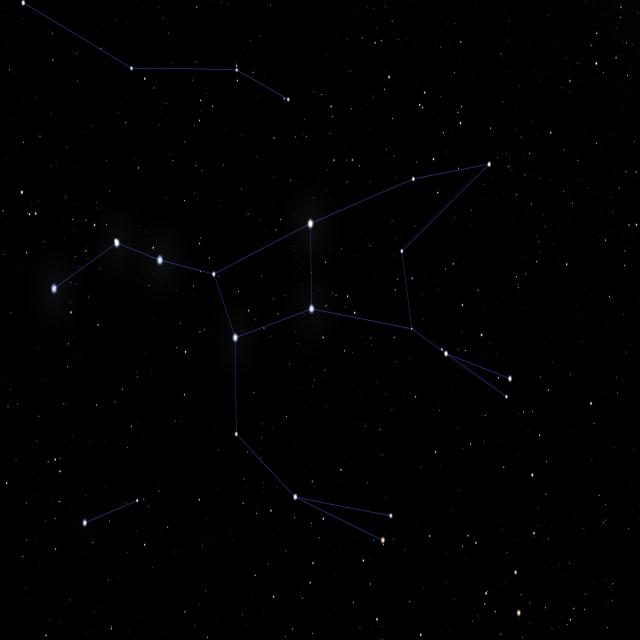Ursa Major: (26, 129, 521, 553)
